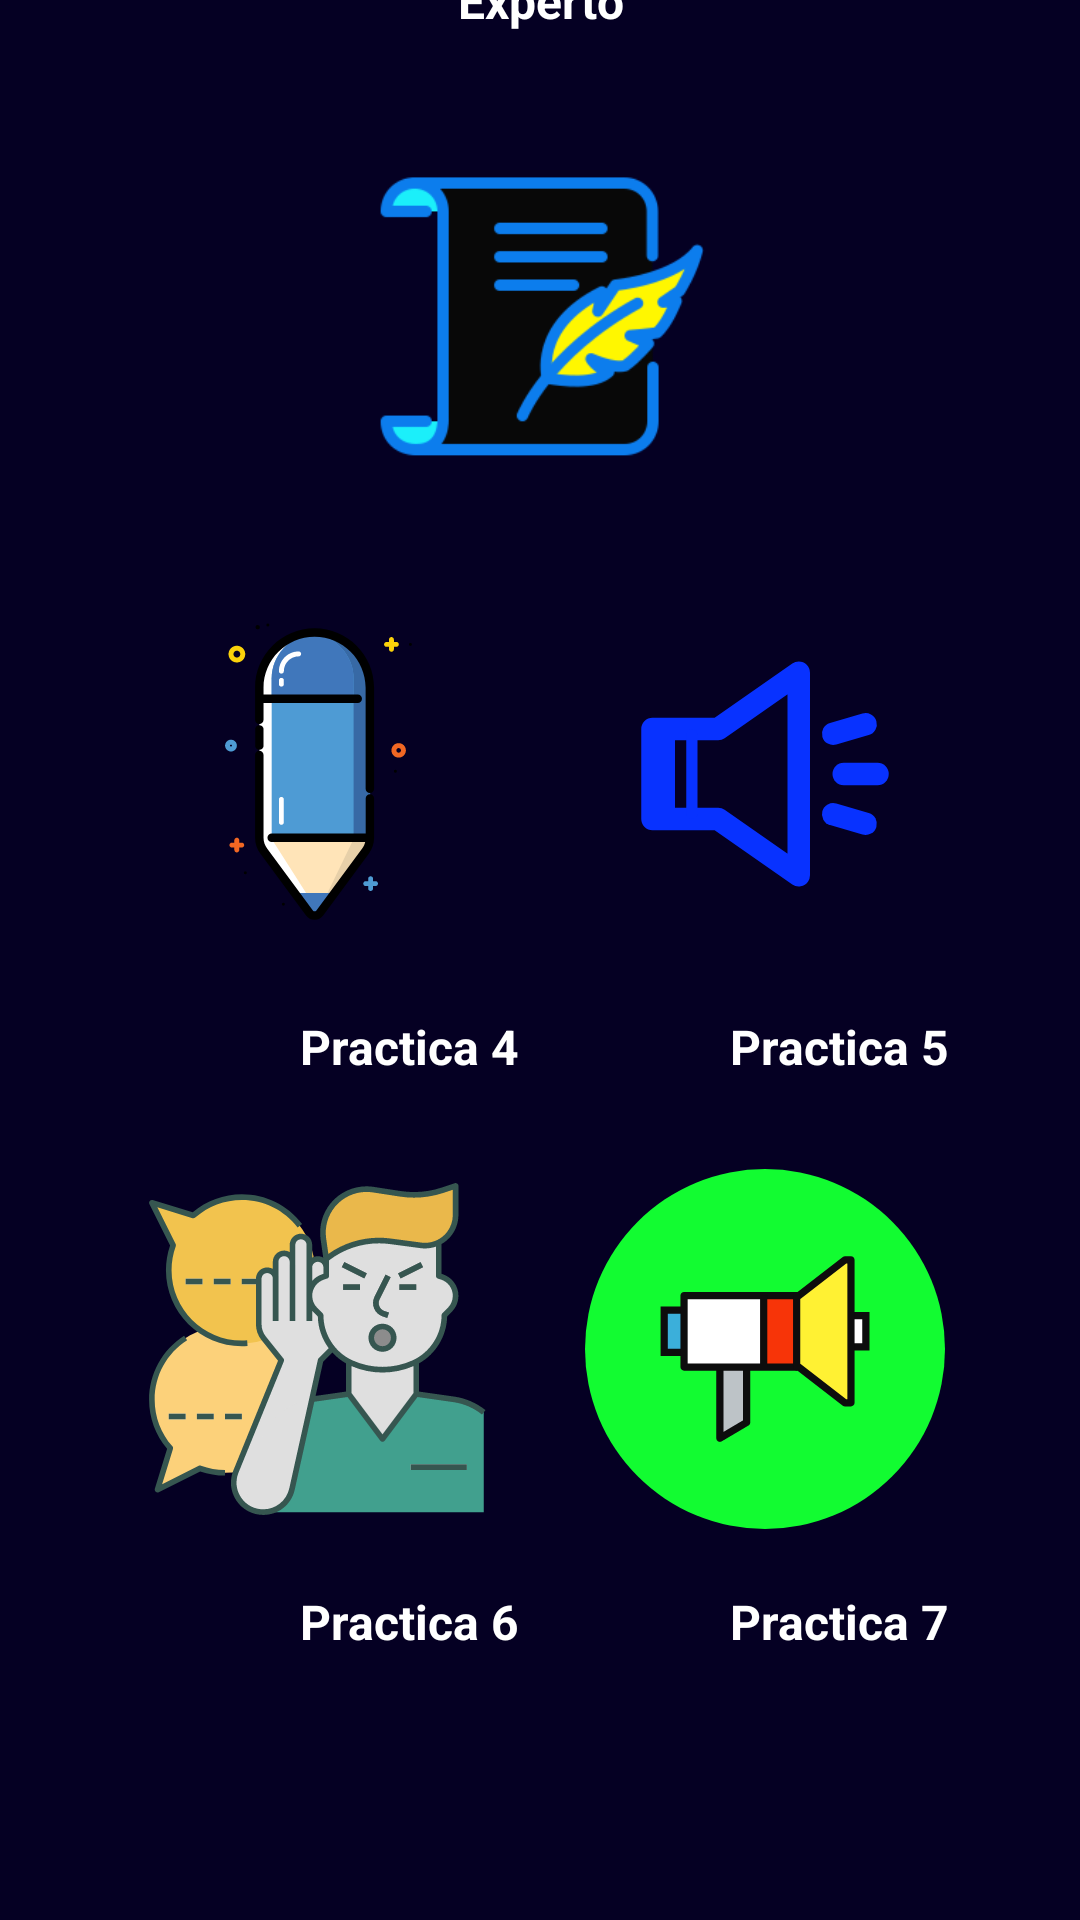

Point at icon controls on the screen. Image size 1080px×1920px, points as (x,y).
listen: (765,774), (317,1349)
pencil: (318,772)
writing: (542,316)
